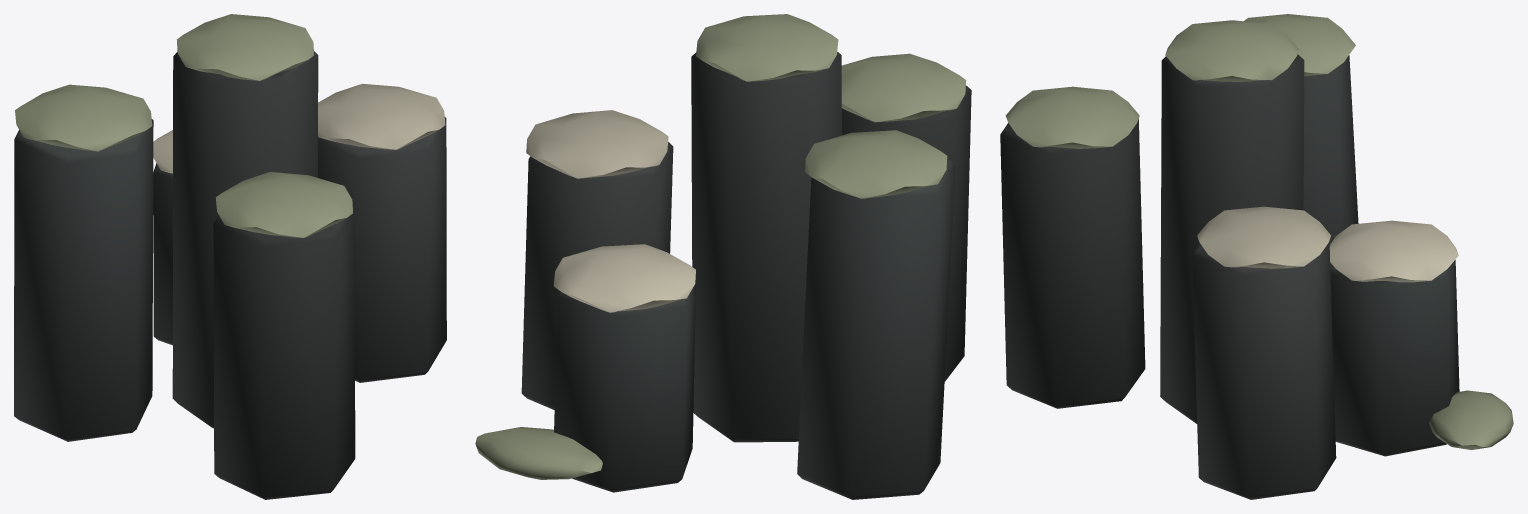
Rendered from column_stubs_b_lod1.glb.
The picture shows the model from 3 angles, left to right: view 1: azimuth 30°, elevation 25°; view 2: azimuth 150°, elevation 25°; view 3: azimuth 270°, elevation 25°; orthographic projection. The views are drawn at different scales.
Visible parts, largest first — view 1: Surface.001; view 2: Surface.001; view 3: Surface.001.
Part boxes in pixels (x1=…): Surface.001: x1=14, y1=14, x2=446, y2=499; Surface.001: x1=475, y1=14, x2=971, y2=499; Surface.001: x1=1000, y1=14, x2=1513, y2=499.
Bounding box in the file's own units: 2.9 × 2.56 × 3.22.
